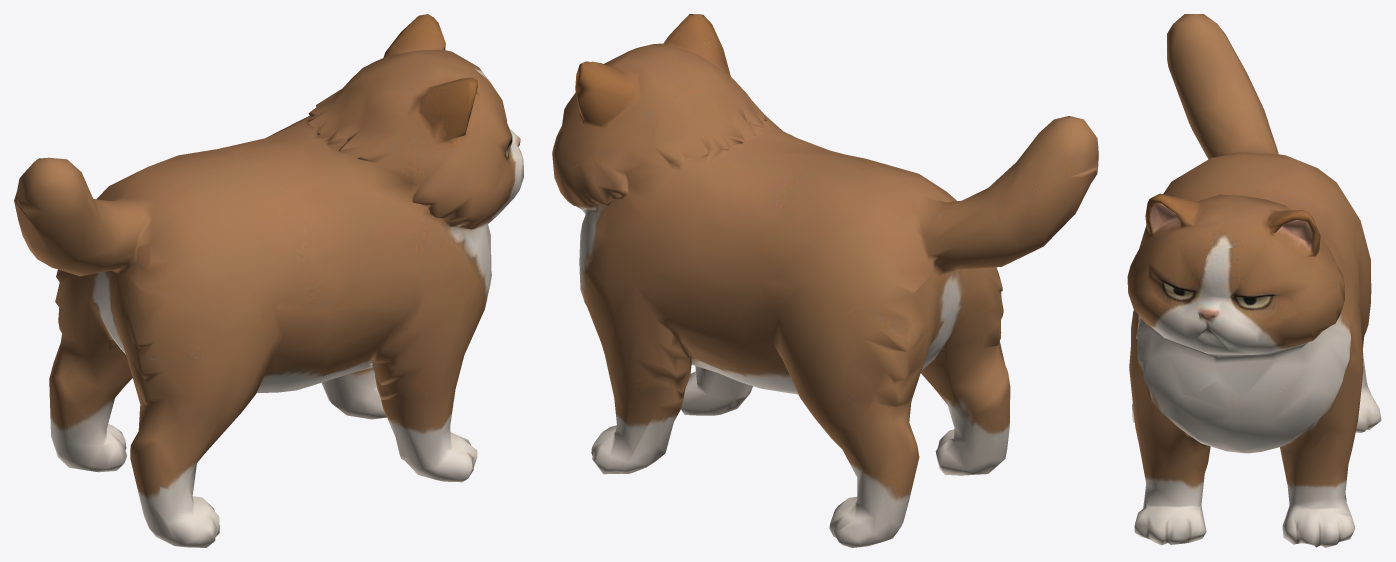
Rendered from PONTAKUN-lo.glb.
3 views of the same model, side by side, from view 1: azimuth 30°, elevation 25°; view 2: azimuth 150°, elevation 25°; view 3: azimuth 270°, elevation 25° (orthographic). The views are drawn at different scales.
Parts seen in each view (by area): view 1: tripo_node_4c1b7882-c0b6-49f9-9daf-b3ce6acce532; view 2: tripo_node_4c1b7882-c0b6-49f9-9daf-b3ce6acce532; view 3: tripo_node_4c1b7882-c0b6-49f9-9daf-b3ce6acce532.
Boxes of the visible parts, x1,y1,x2,y2 form: tripo_node_4c1b7882-c0b6-49f9-9daf-b3ce6acce532: (14, 14, 523, 547); tripo_node_4c1b7882-c0b6-49f9-9daf-b3ce6acce532: (552, 14, 1098, 547); tripo_node_4c1b7882-c0b6-49f9-9daf-b3ce6acce532: (1127, 14, 1381, 547).
Size of the model in its own units: 1.35 by 1 by 0.646.
Materials: 1 (1 with a texture image).
